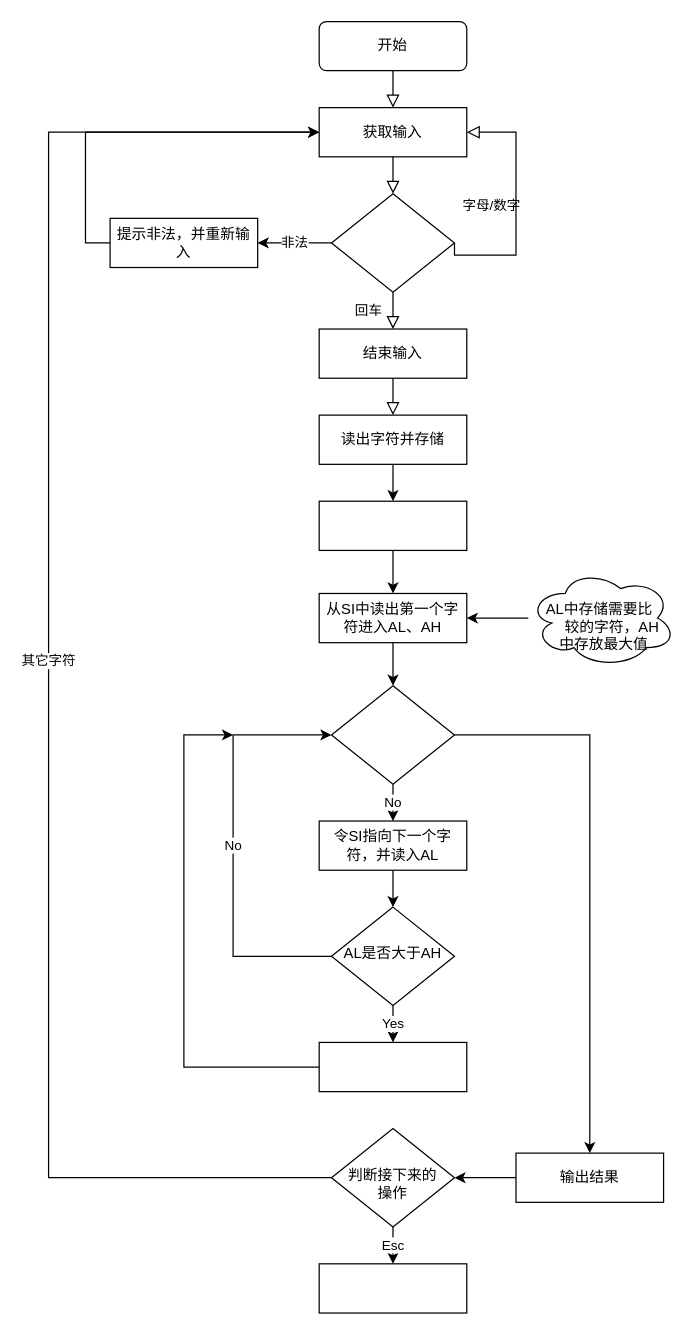
This 697x1335 diagram has some shape labels left out. The centre of each missing label's shape, as x and y in pixels:
"SI指向原字符串的首地址" belongs at (392,525).
"判断是否遍 历完（AL中是否是回车）" belongs at (392,734).
"判断输入的字符" belongs at (392,242).
"回到主函数" belongs at (392,1288).
"更新最大值，令AH=AL" belongs at (392,1066).
